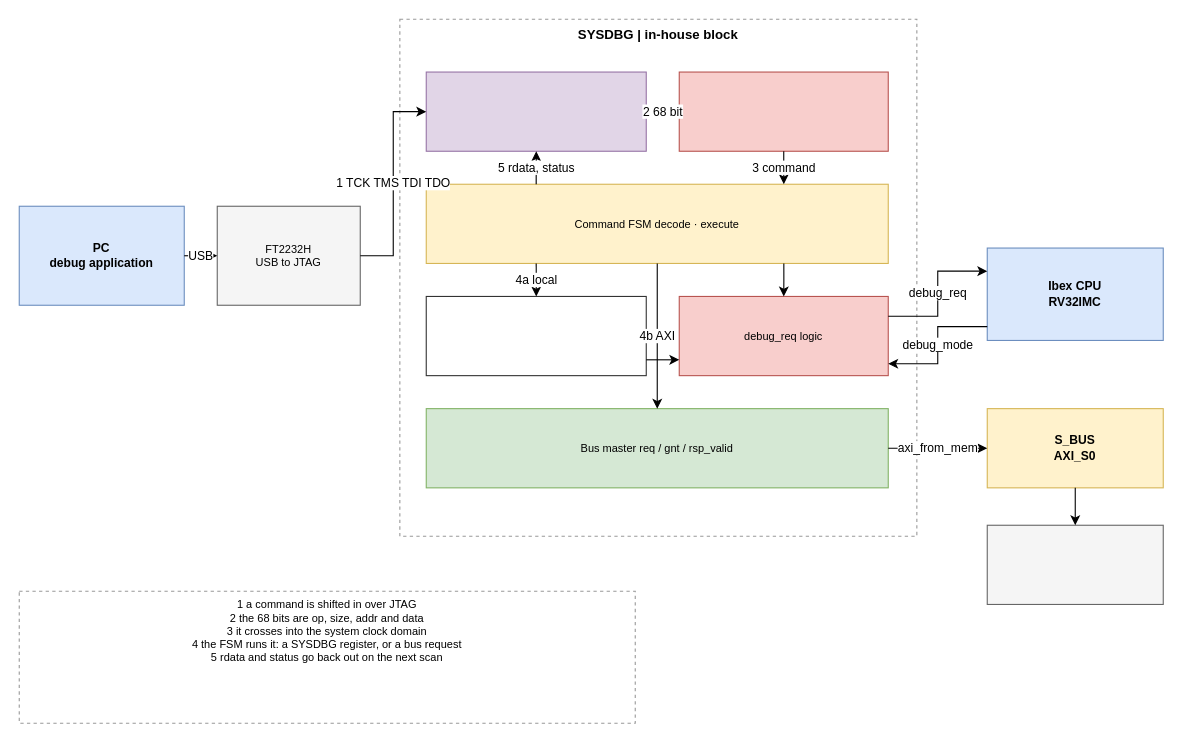
The diagram is 1183 pixels wide and 743 high, and some of its shapes have lost their labels. Each missing label, with the centre of its shape:
CDC TCK to system clock: point (783, 111)
JTAG front-end TAP · IR · DR: point (535, 111)
RAM, ROM peripherals: point (1074, 564)
SYSDBG registers CTRL · STATUS · ID: point (535, 335)
